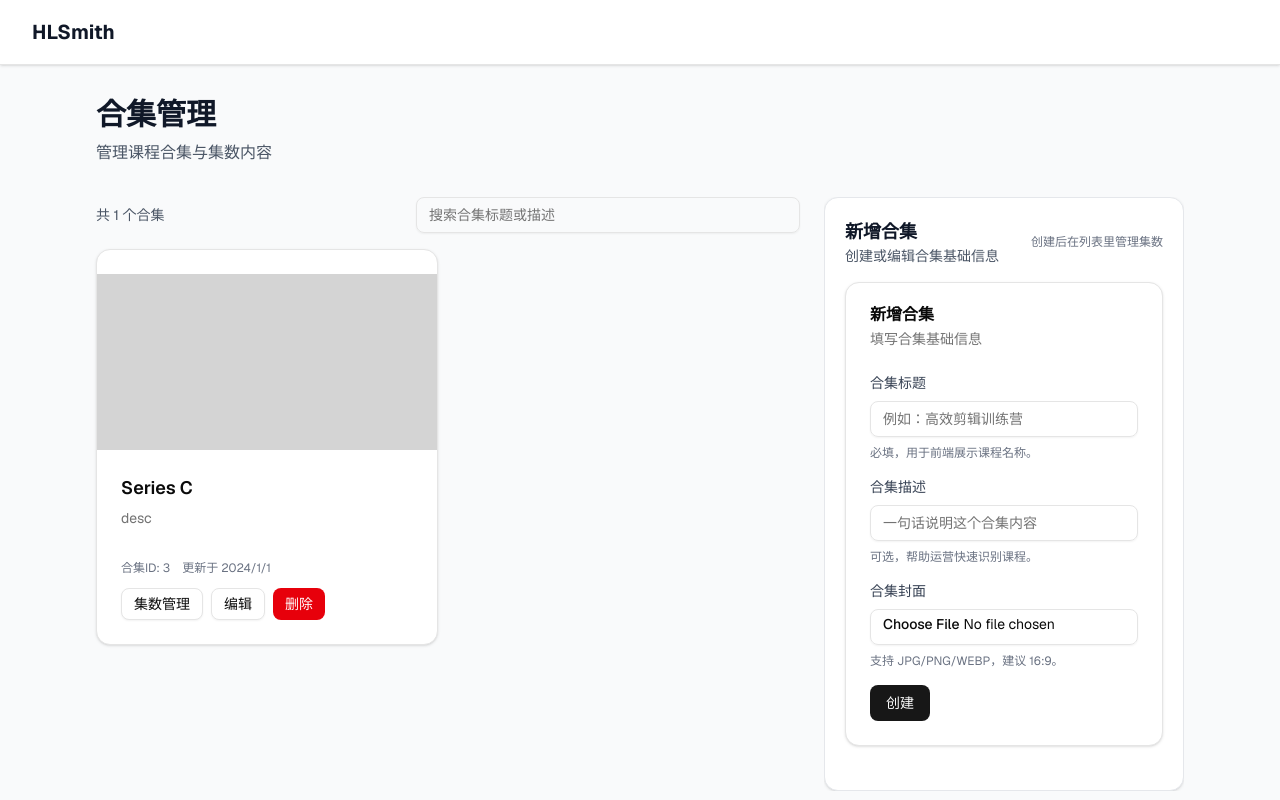
Test: CollectionsPage › updates collection successfully
Expected: the text "Series C" is shown, [121,476,193,499]
Click the button "编辑".
click(238, 604)  # box [211,588,265,620]
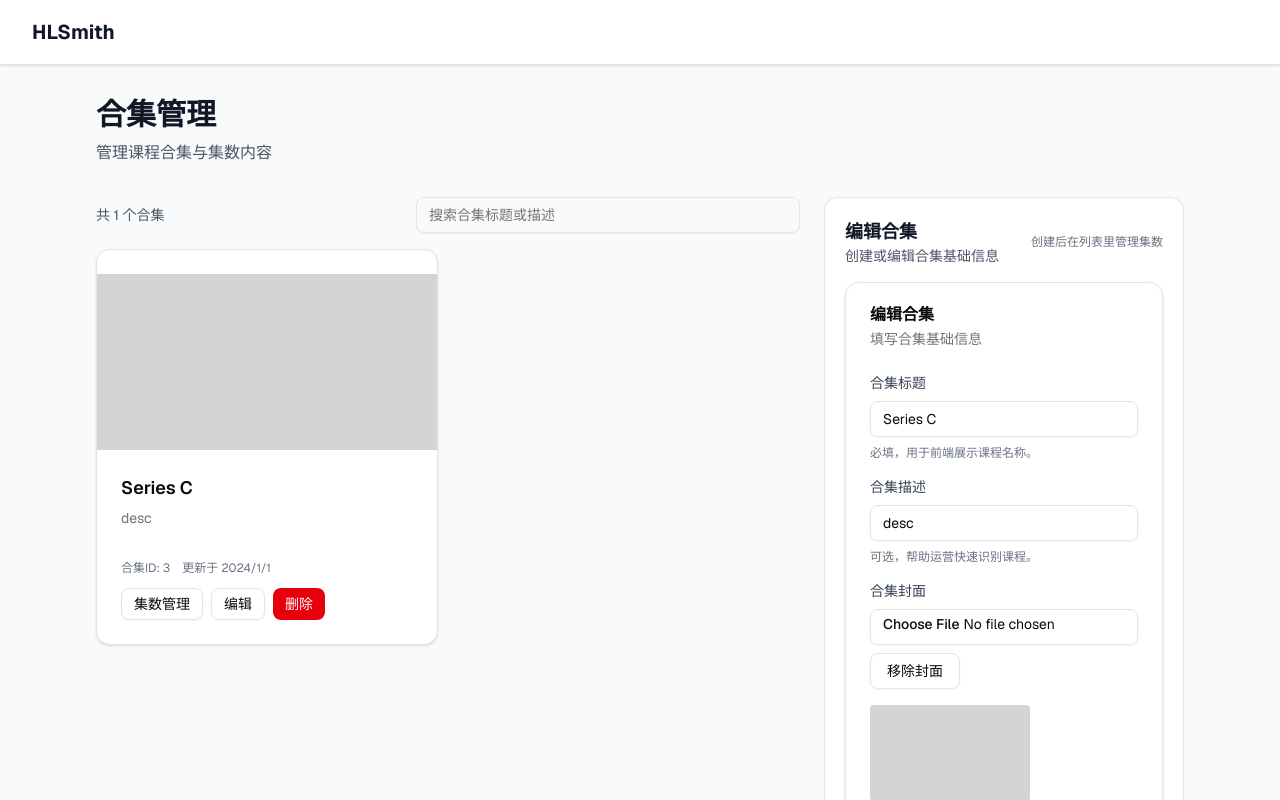
Replace the text in the field labelled "合集标题" with "Series C Updated" at (1004, 419), box [870,401,1138,437]
(page scrolled)
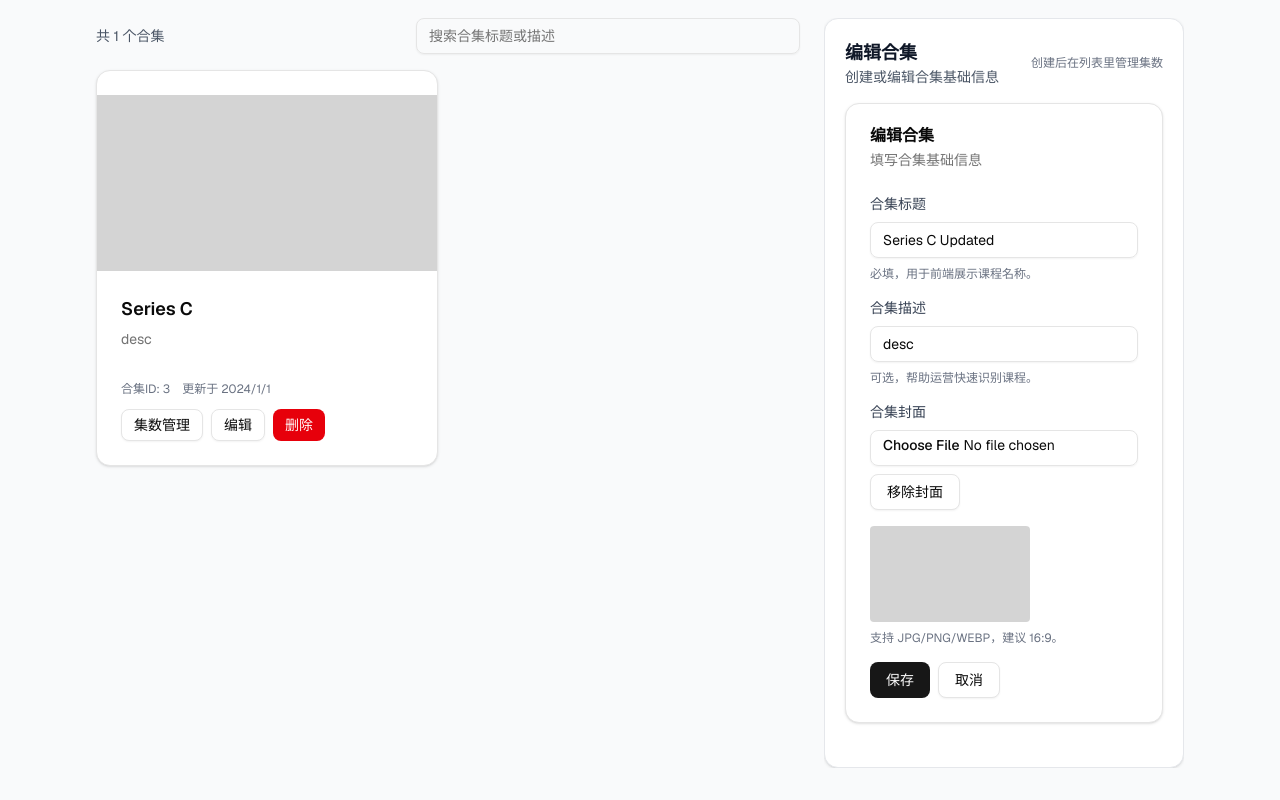
Click the button "保存".
click(900, 680)  # box [870,662,930,698]
(page scrolled)
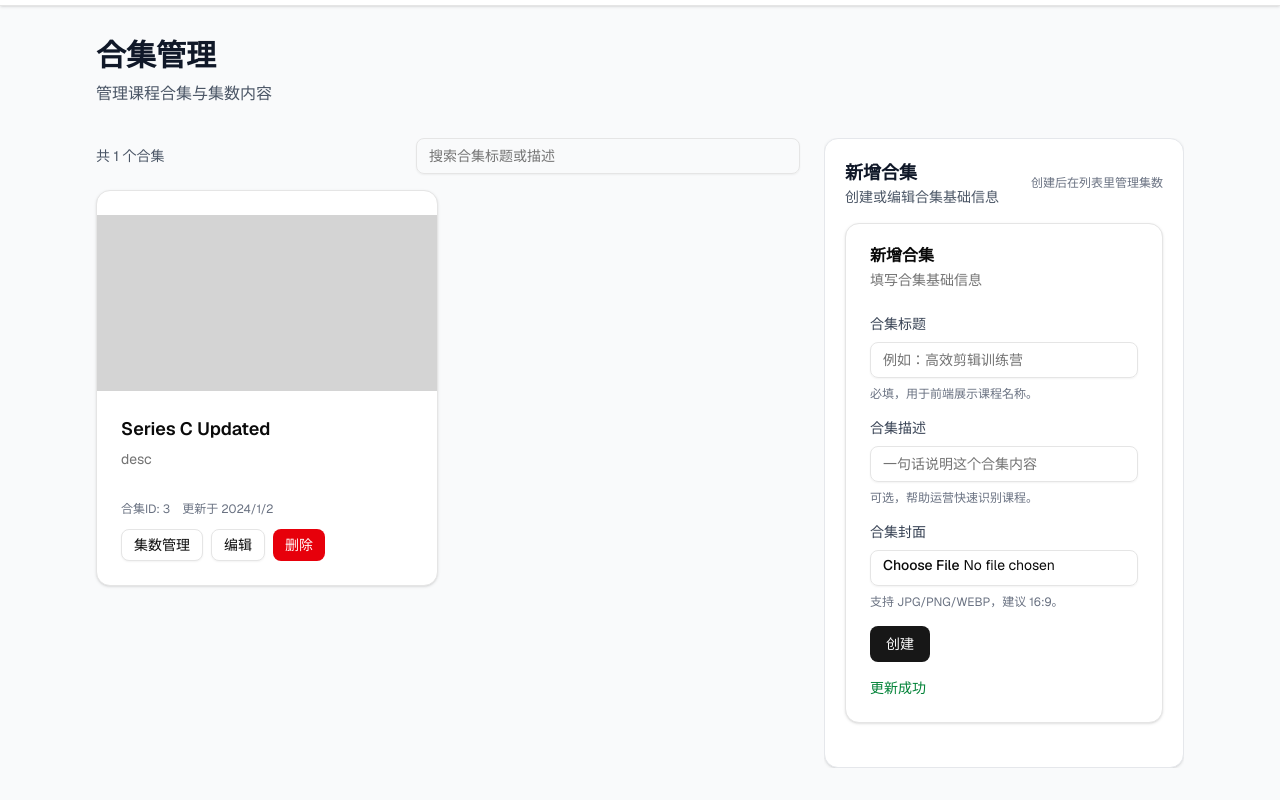
Now the text "更新成功" is shown, box [870,679,926,697]
Now the text "Series C Updated" is shown, box [121,417,270,440]
